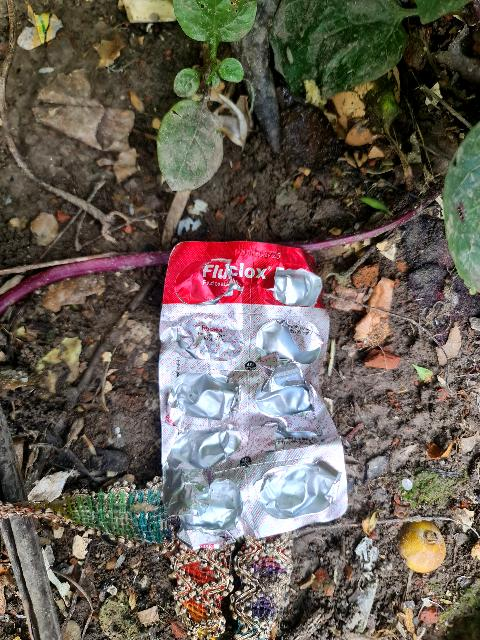medicine: (153, 220, 359, 552)
